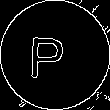P_N: (36, 29, 74, 81)
